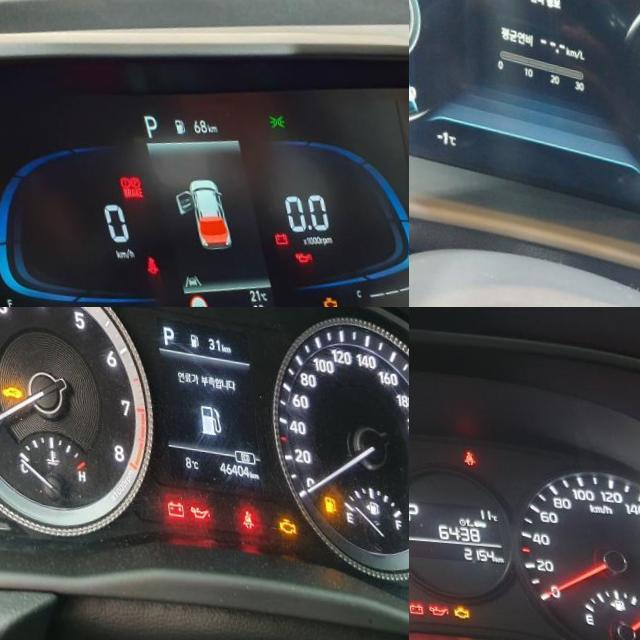LaneCenteringOff: (172, 267, 192, 283)
Low fuel level: (313, 487, 326, 505)
SideLamp: (262, 106, 280, 121)
